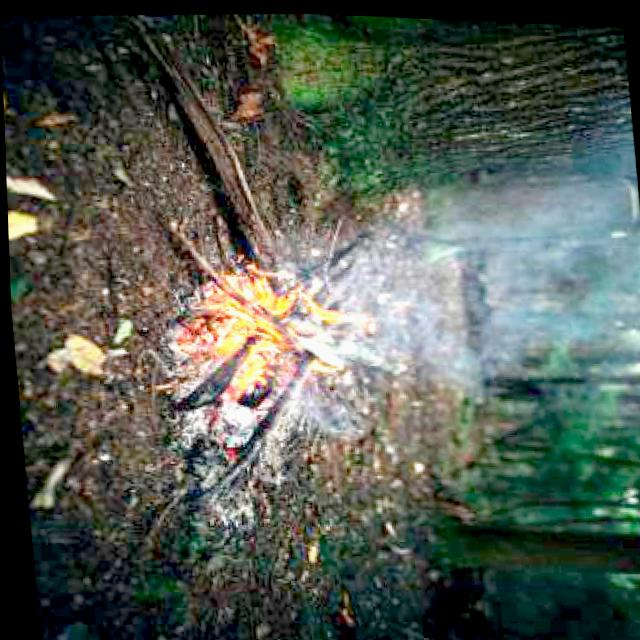helmet: (181, 266, 347, 387)
